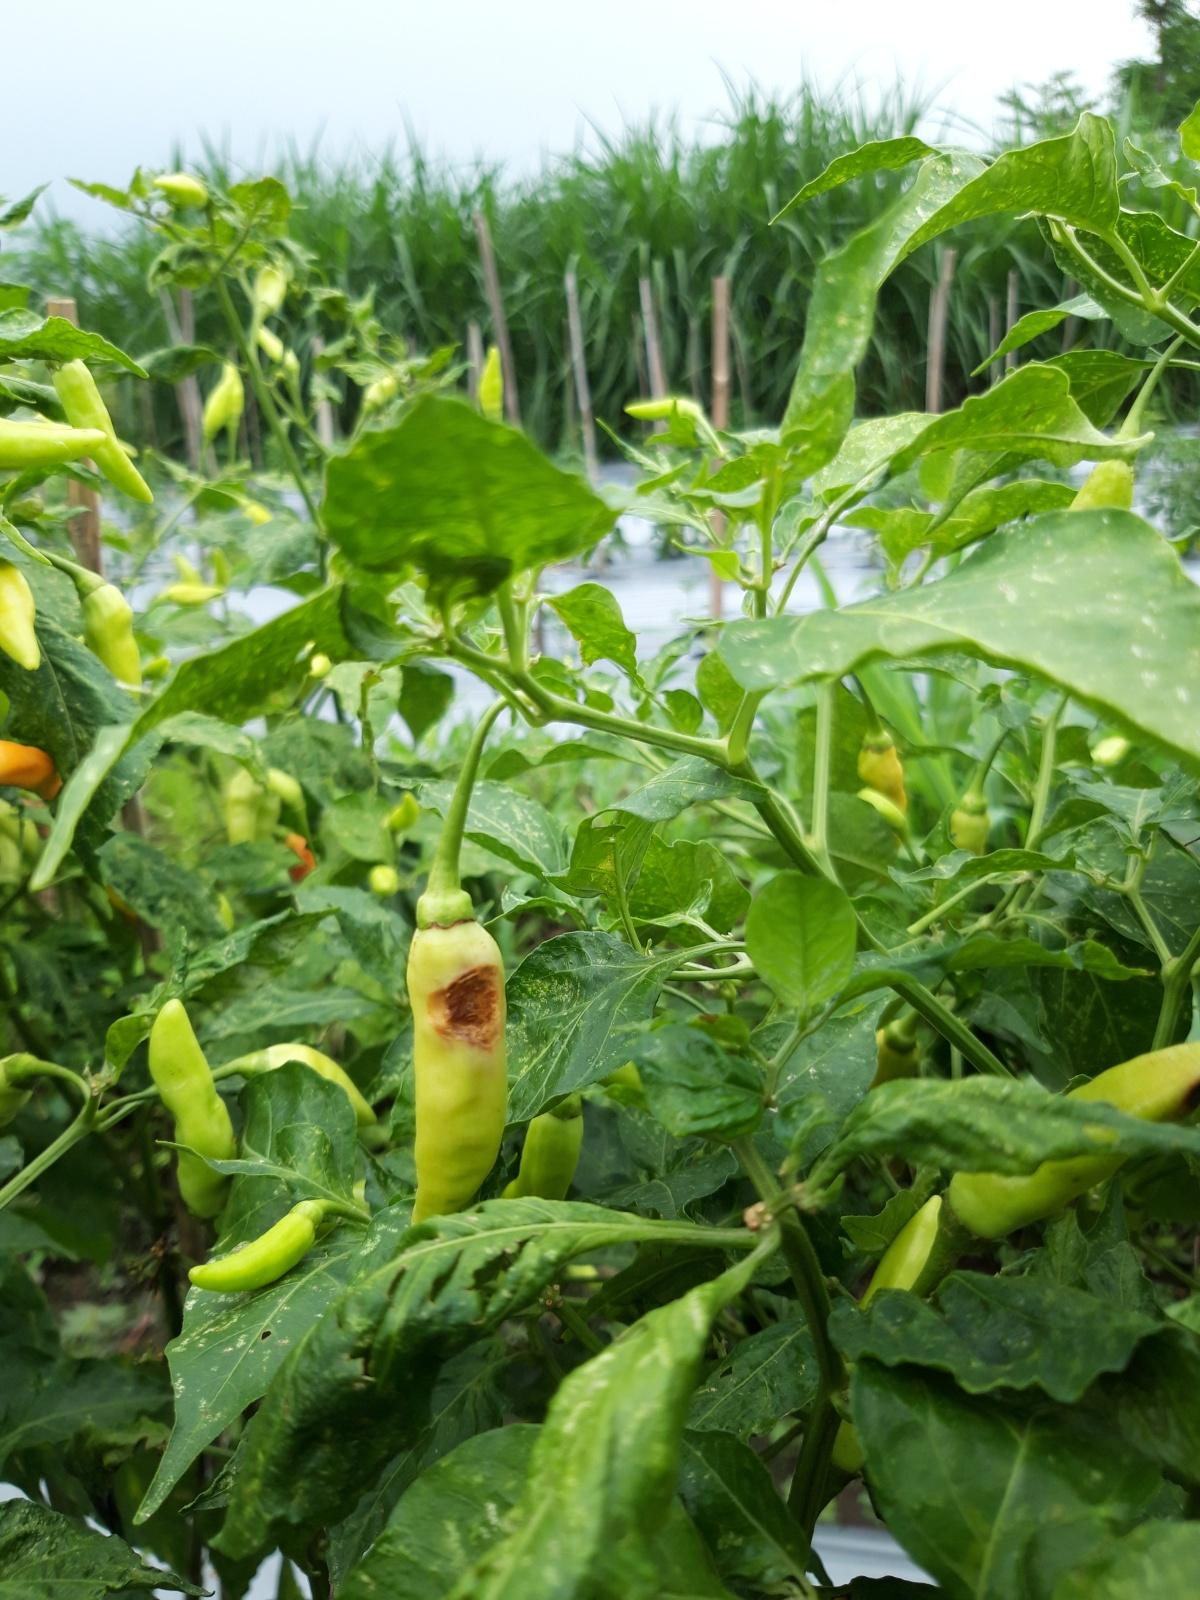cabai_normal: (949, 1044, 1199, 1242), (147, 1002, 234, 1220), (45, 351, 159, 508), (190, 1199, 323, 1293), (76, 580, 144, 704), (479, 346, 504, 420), (624, 398, 697, 421)
lalat_buah: (405, 894, 507, 1223)
